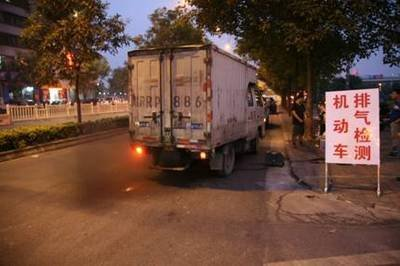smoke: (61, 149, 130, 210)
